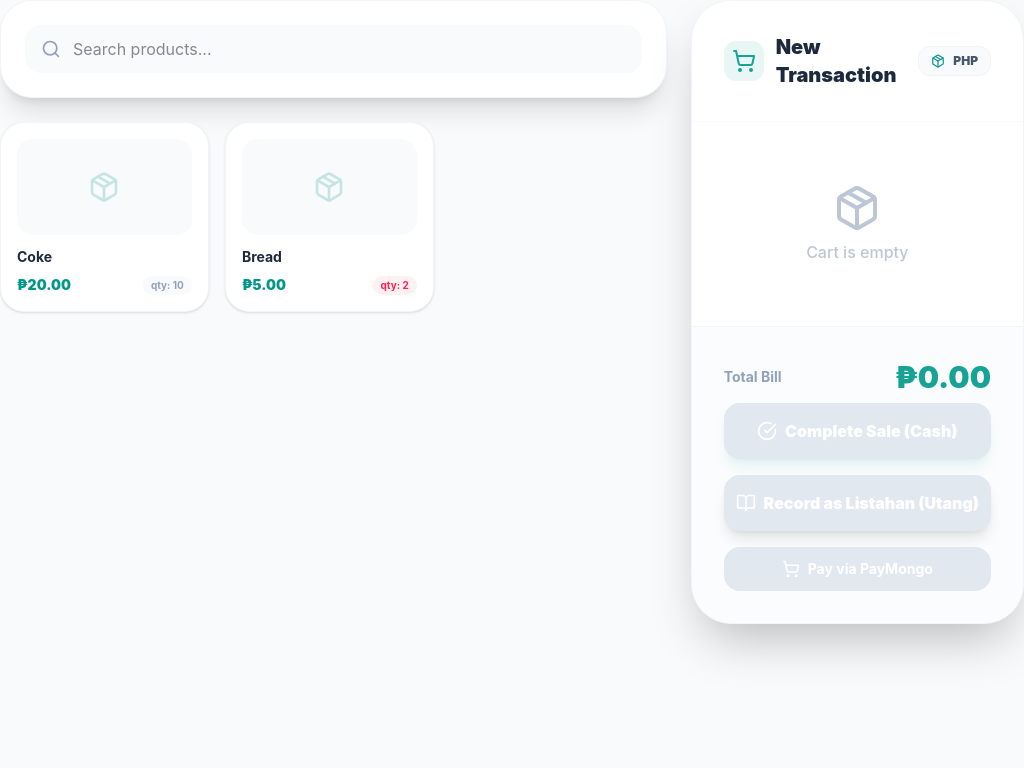
Test: PointOfSale Component › removes item from cart
Click the heading "Coke" at (35, 256), box [17,248,52,265]
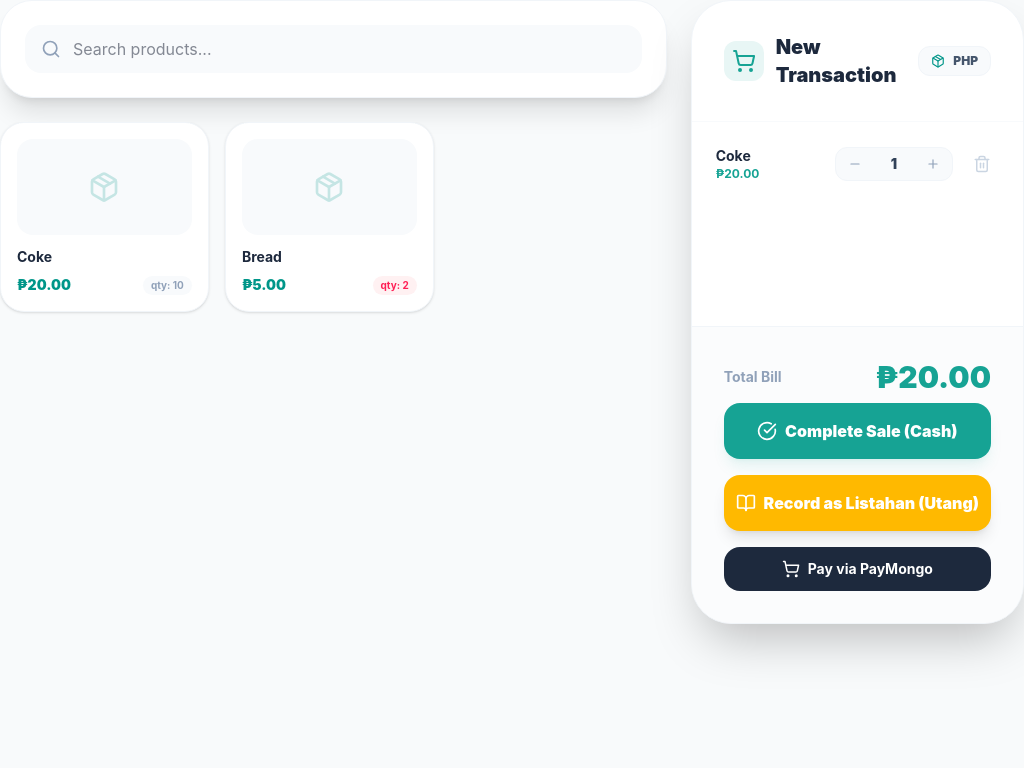
Click the button named "Remove item" at (982, 164), box [965,147,999,181]
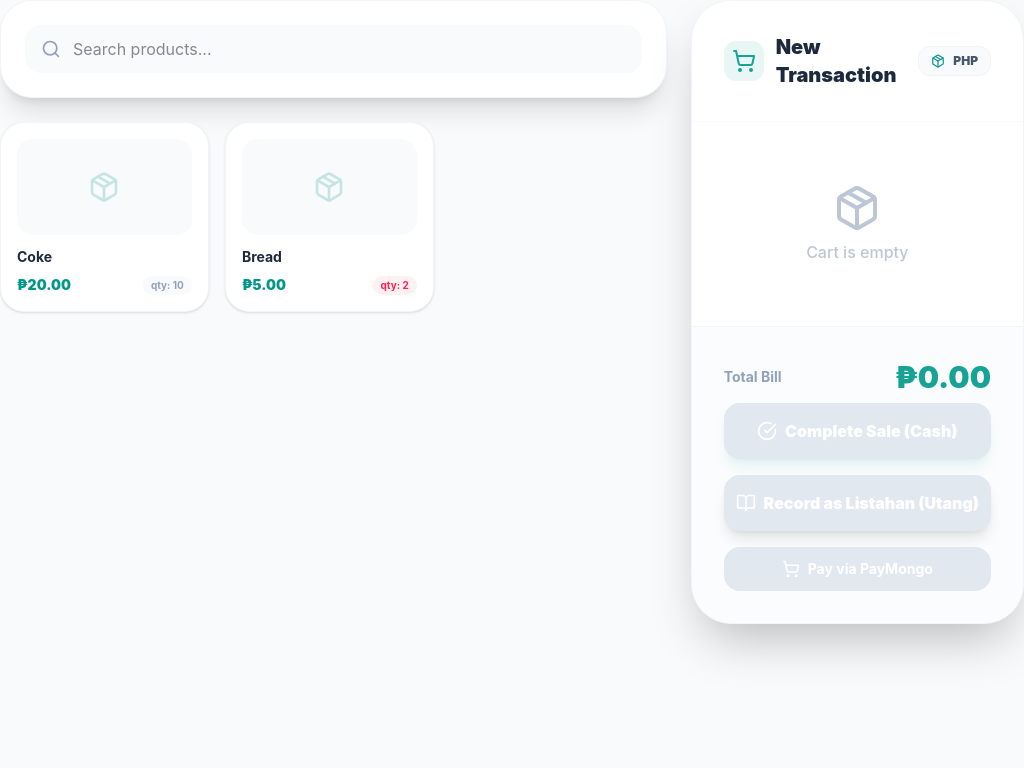
Expected: the text "Cart is empty" is shown, [806,240,908,264]
